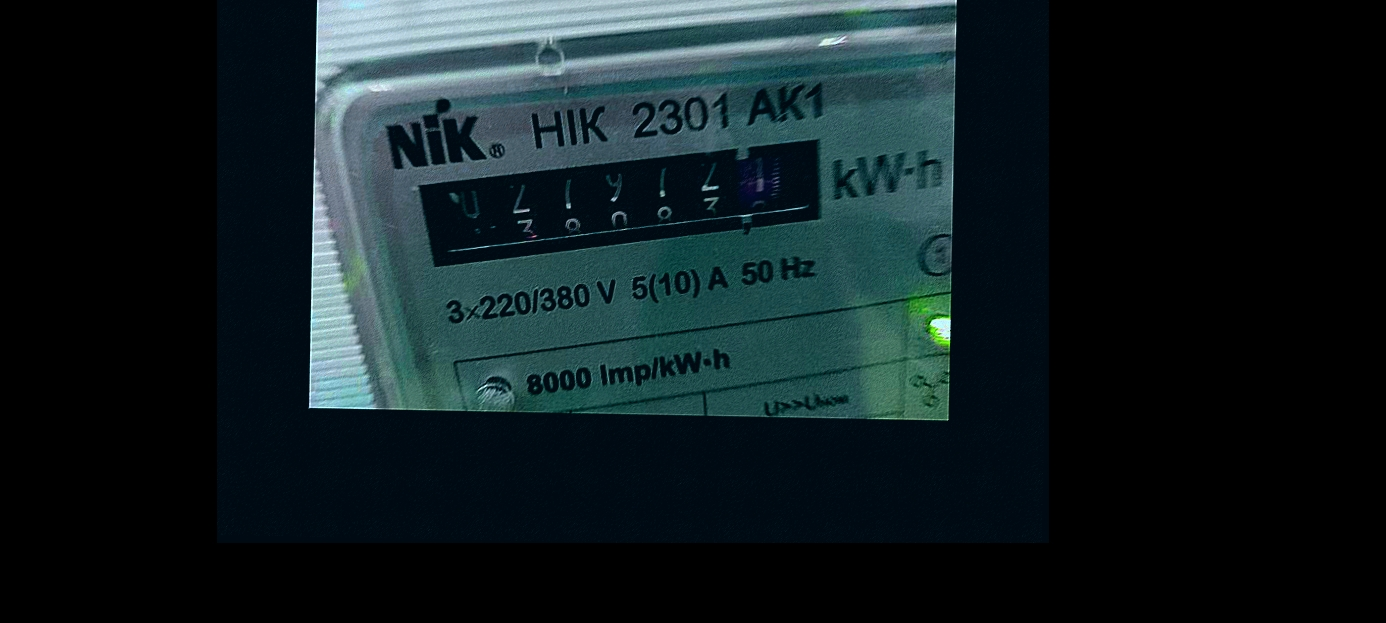0: (455, 184, 483, 220)
1: (748, 153, 771, 196)
2: (504, 176, 534, 215), (694, 156, 723, 193)
7: (647, 160, 674, 201), (554, 174, 578, 211)
9: (601, 168, 628, 203)
screen: (400, 122, 854, 285)
